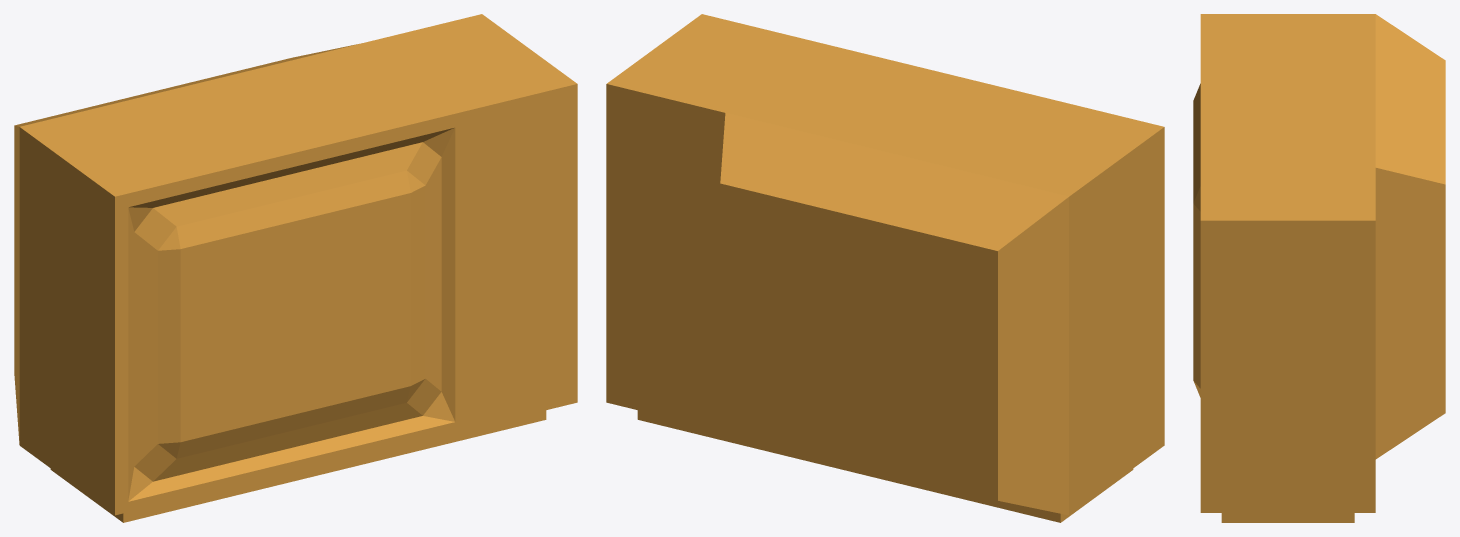
File: electronics-television-old.glb
3 renders of one model, left to right at view 1: azimuth 30°, elevation 25°; view 2: azimuth 150°, elevation 25°; view 3: azimuth 270°, elevation 25°, orthographic. The views are drawn at different scales.
Visible parts, largest first — view 1: television-old; view 2: television-old; view 3: television-old.
Part boxes in pixels (<box>): television-old: <box>14,14,577,522</box>; television-old: <box>606,14,1164,522</box>; television-old: <box>1193,14,1445,522</box>.
Size of the model in its own units: 0.7 by 0.4909 by 0.3608.
